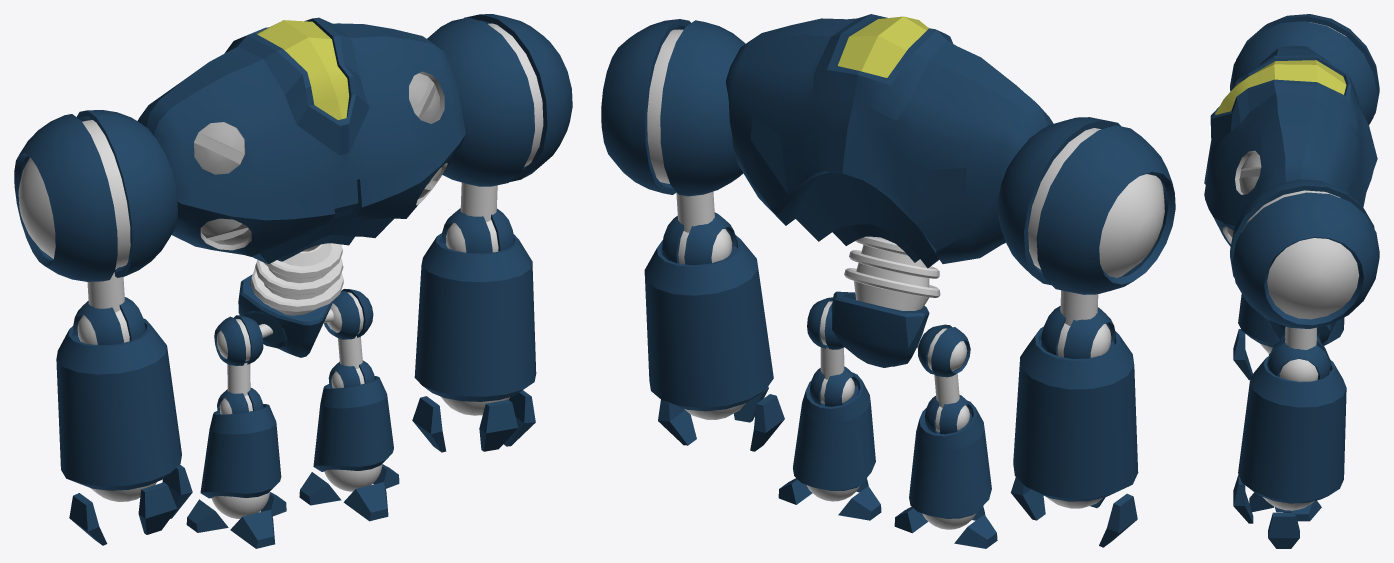
Rendered from Robot.fbx.
The picture shows the model from 3 angles, left to right: view 1: azimuth 30°, elevation 25°; view 2: azimuth 150°, elevation 25°; view 3: azimuth 270°, elevation 25°; orthographic projection. The views are drawn at different scales.
Visible parts, largest first — view 1: Chest, R_Shoulder, L_Forearm, R_Forearm, L_Shoulder, Face, R_Shin, L_Shin, Abs, Scalp, Pelvis, R_Joint_Side (+27 smaller); view 2: Chest, R_Shoulder, L_Shoulder, L_Forearm, R_Forearm, R_Shin, L_Shin, Face, Pelvis, Abs, R_Joint_Side, Scalp (+17 smaller); view 3: Chest, L_Forearm, L_Shoulder, R_Shoulder, L_Joint_Side, Face, Scalp, L_Elbow, R_Forearm, L_FingerRight, L_Joint_LSide, polySurface4 (+8 smaller).
Boxes of the visible parts, bbox=[...] form: Chest: bbox=[137, 23, 465, 263]; R_Shoulder: bbox=[14, 110, 177, 281]; L_Forearm: bbox=[414, 233, 536, 401]; R_Forearm: bbox=[56, 318, 181, 490]; L_Shoulder: bbox=[427, 14, 572, 186]; Face: bbox=[224, 17, 369, 155]; R_Shin: bbox=[200, 404, 281, 498]; L_Shin: bbox=[313, 376, 393, 471]; Abs: bbox=[250, 243, 343, 315]; Scalp: bbox=[257, 20, 349, 119]; Pelvis: bbox=[238, 274, 332, 357]; R_Joint_Side: bbox=[18, 157, 55, 258]; Chest: bbox=[725, 18, 1053, 268]; R_Shoulder: bbox=[998, 117, 1175, 294]; L_Shoulder: bbox=[601, 19, 745, 196]; L_Forearm: bbox=[644, 235, 773, 411]; R_Forearm: bbox=[1013, 327, 1138, 501]; R_Shin: bbox=[909, 400, 991, 518]; L_Shin: bbox=[793, 372, 875, 490]; Face: bbox=[812, 14, 952, 120]; Pelvis: bbox=[831, 291, 929, 367]; Abs: bbox=[844, 236, 940, 310]; R_Joint_Side: bbox=[1099, 174, 1164, 277]; Scalp: bbox=[837, 16, 928, 77]; Chest: bbox=[1204, 46, 1377, 246]; L_Forearm: bbox=[1238, 356, 1346, 503]; L_Shoulder: bbox=[1230, 179, 1379, 328]; R_Shoulder: bbox=[1230, 14, 1379, 124]; L_Joint_Side: bbox=[1267, 238, 1359, 319]; Face: bbox=[1210, 55, 1357, 144]; Scalp: bbox=[1215, 60, 1346, 114]; L_Elbow: bbox=[1267, 337, 1330, 379]; R_Forearm: bbox=[1238, 294, 1344, 347]; L_FingerRight: bbox=[1268, 512, 1299, 548]; L_Joint_LSide: bbox=[1279, 359, 1318, 381]; polySurface4: bbox=[1239, 152, 1261, 194].
Bounding box in the file's own units: 4.4 × 3.89 × 1.47.
